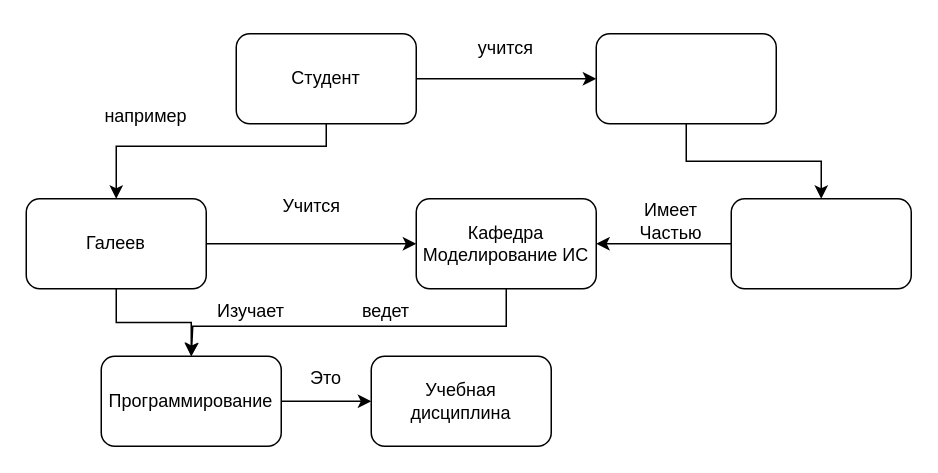
Some shapes in this 938 by 473 pixel diagram are drawn without their labels. Each missing label, with the centre of its shape:
"Казанский государственный энергетический университет" goes at point 685,78.
"Факультет информатики" goes at point 820,243.
